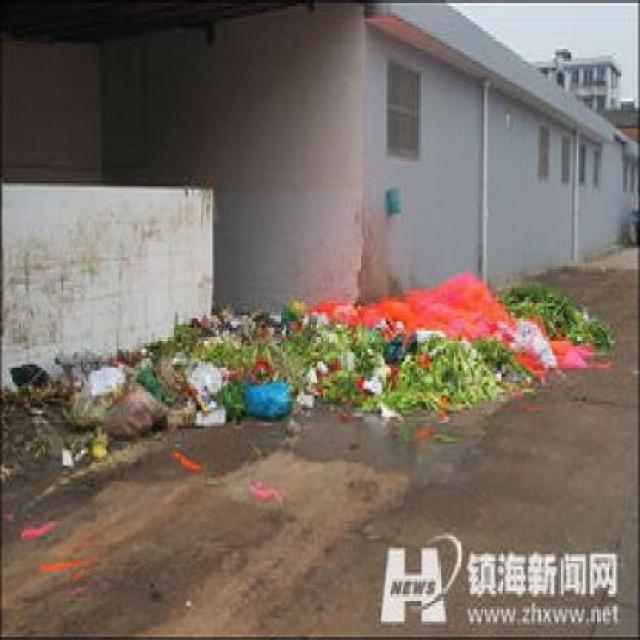garbage: (172, 282, 598, 416), (0, 312, 198, 477)
